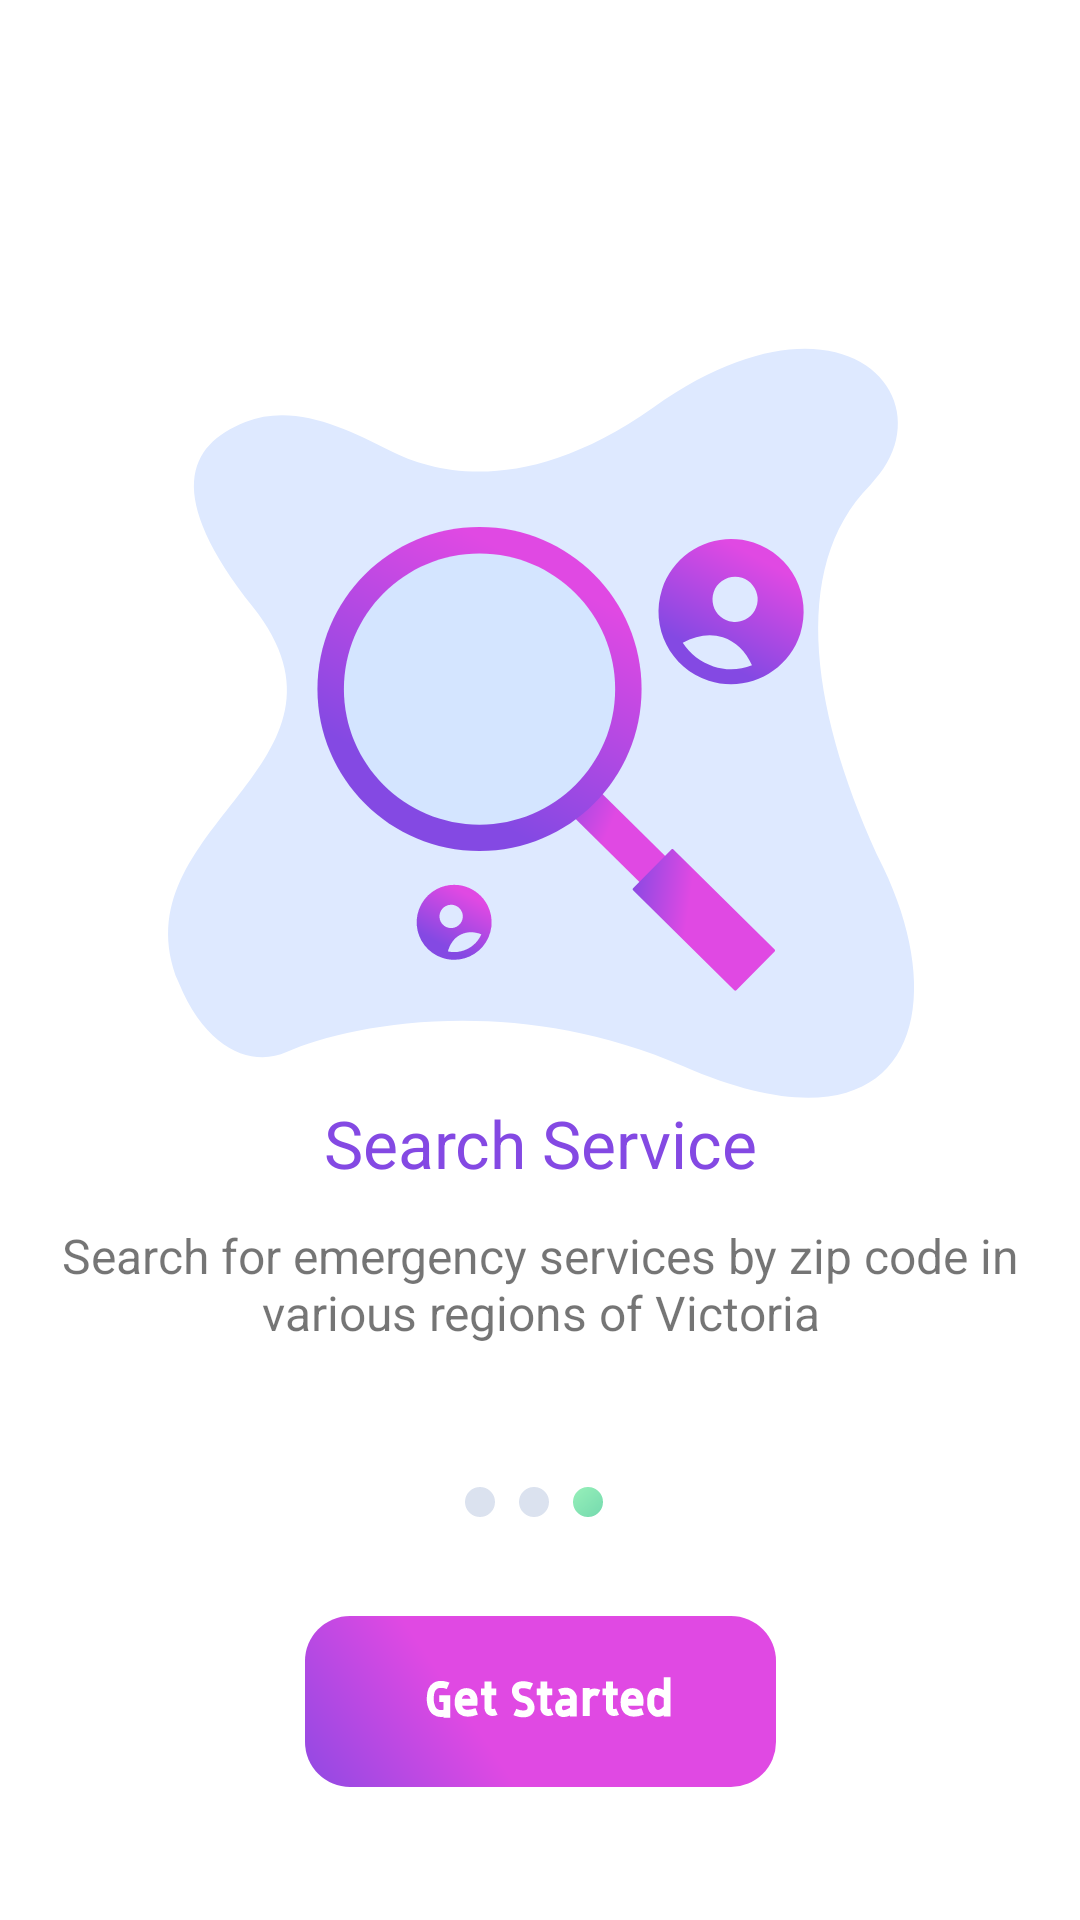

Point at icon controls on the screen. Image size 1080px×1920px, points as [x,y].
slide: [534,1502]
